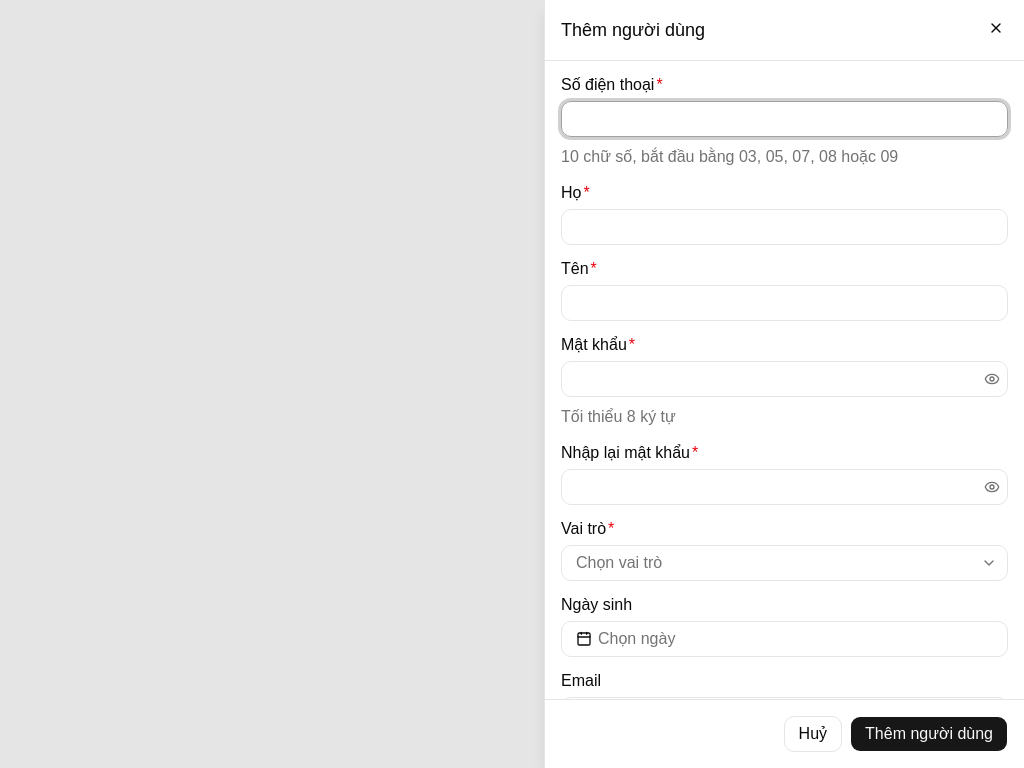
UserFormSheet — tạo › ô vai trò chỉ có các vai trò được truyền vào (đã lọc theo cấp)
Click the dropdown labelled "vai trò": [619, 562] box 561,545 -> 1008,581
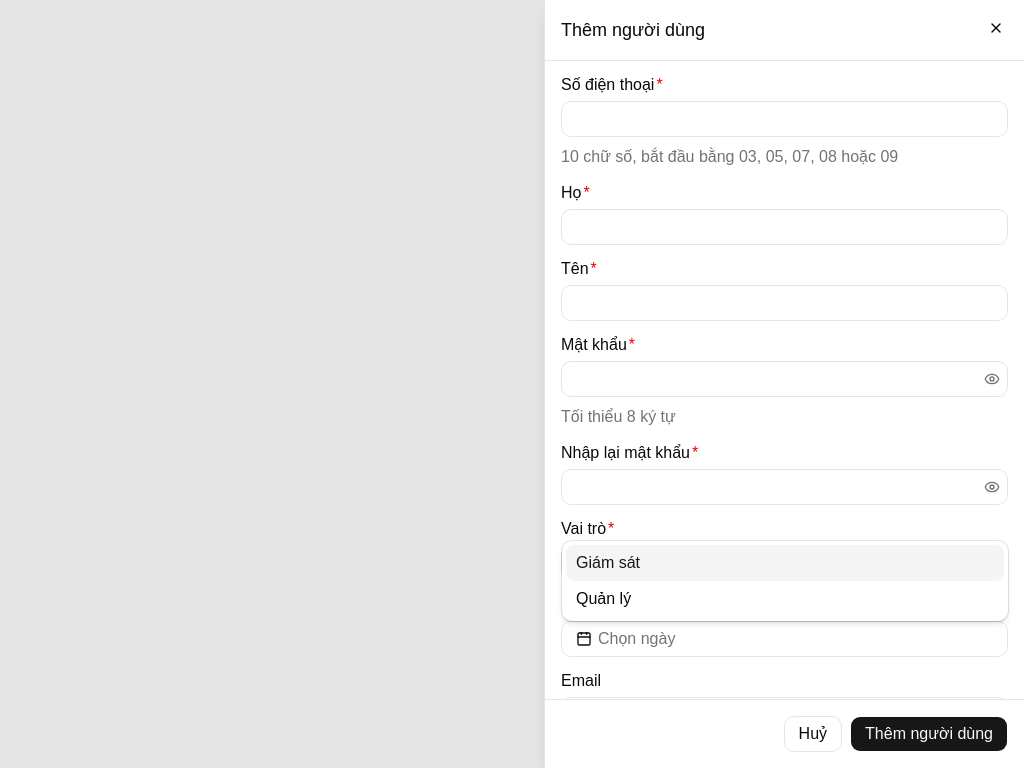
Expected: the options read "Giám sát", "Quản lý", in this order, 566,545 -> 1004,581; 576,590 -> 631,607
